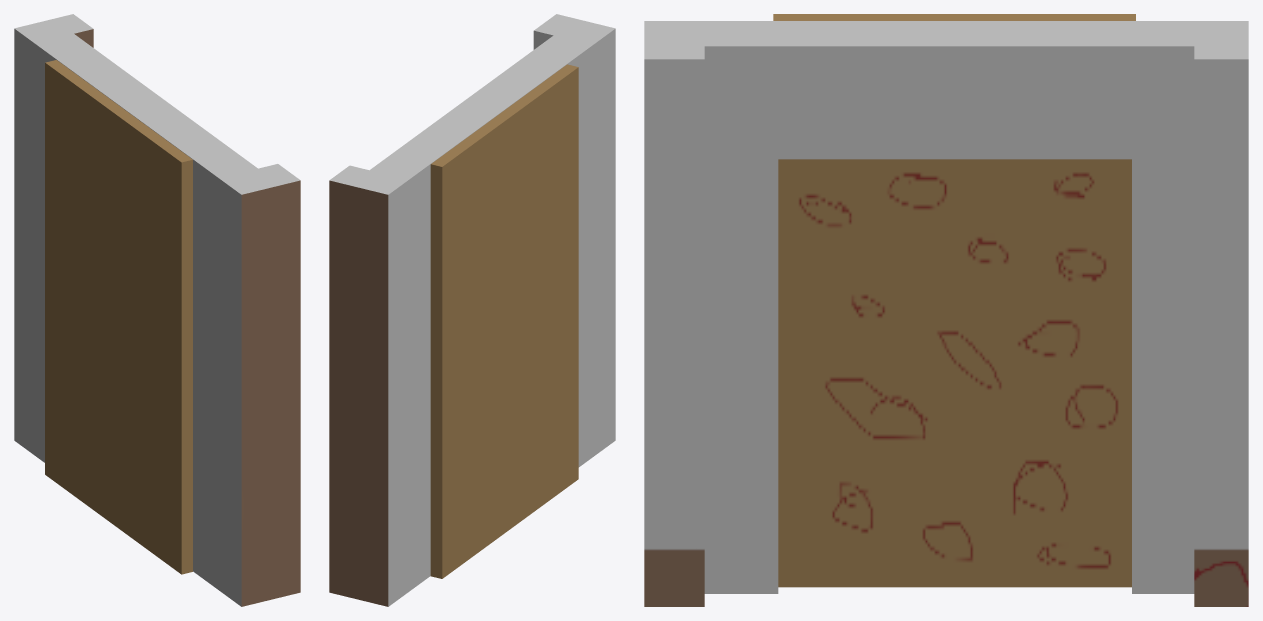
File: doorWall.fbx
3 renders of one model, left to right at view 1: azimuth 30°, elevation 25°; view 2: azimuth 150°, elevation 25°; view 3: azimuth 270°, elevation 25°, orthographic. The views are drawn at different scales.
Visible parts, largest first — view 1: Cube, Cube.001; view 2: Cube, Cube.001; view 3: Cube, Cube.001.
Part boxes in pixels (x1=…): Cube: x1=14, y1=14, x2=300, y2=606; Cube.001: x1=45, y1=60, x2=192, y2=574; Cube: x1=329, y1=14, x2=615, y2=606; Cube.001: x1=430, y1=64, x2=578, y2=578; Cube: x1=644, y1=21, x2=1248, y2=606; Cube.001: x1=773, y1=14, x2=1135, y2=587.
Bounding box in the file's own units: 35.89 × 200 × 200.
